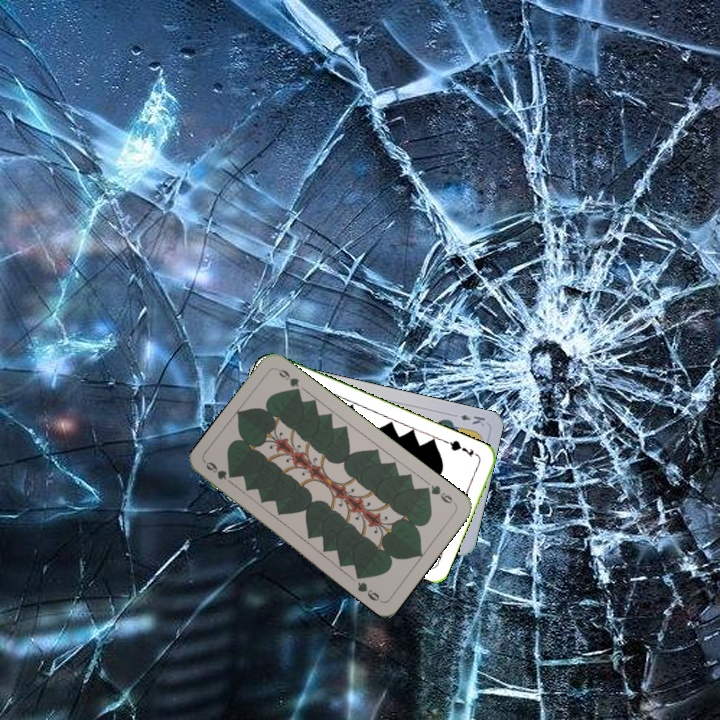EK: (456, 410, 488, 429)
G7: (443, 436, 476, 459)
G9: (420, 481, 458, 507), (202, 458, 229, 482)
